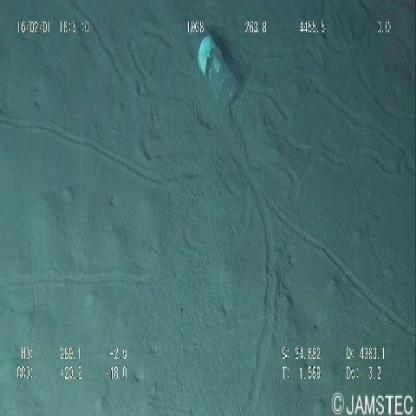Rác: (187, 20, 248, 114)
